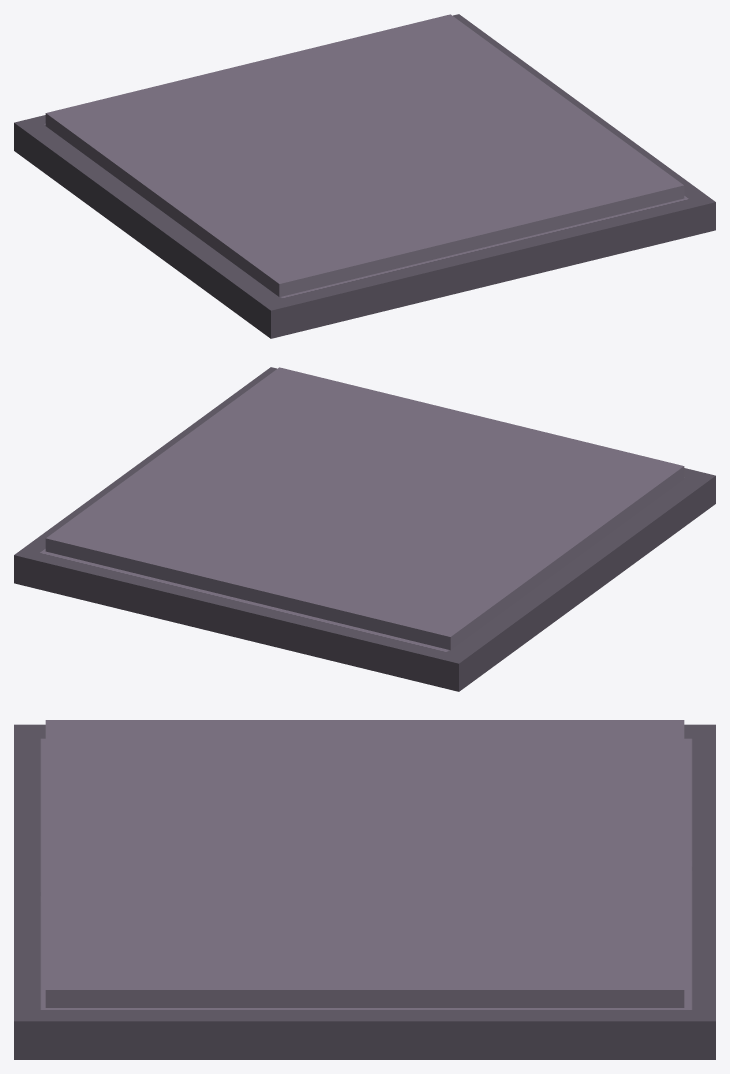
Rendered from Pumpkin_pressurePlate.fbx.
3 renders of one model, top to bottom at view 1: azimuth 30°, elevation 25°; view 2: azimuth 150°, elevation 25°; view 3: azimuth 270°, elevation 25°, orthographic. The views are drawn at different scales.
Parts seen in each view (by area): view 1: Cube, Plane; view 2: Cube, Plane; view 3: Cube, Plane.
Part boxes in pixels (x1,y1,x2,y2): Cube: [45, 14, 684, 297]; Plane: [14, 14, 715, 338]; Cube: [45, 367, 684, 650]; Plane: [14, 367, 715, 691]; Cube: [45, 720, 684, 1007]; Plane: [14, 724, 715, 1059].
Bounding box in the file's own units: 220 × 19.54 × 220.
